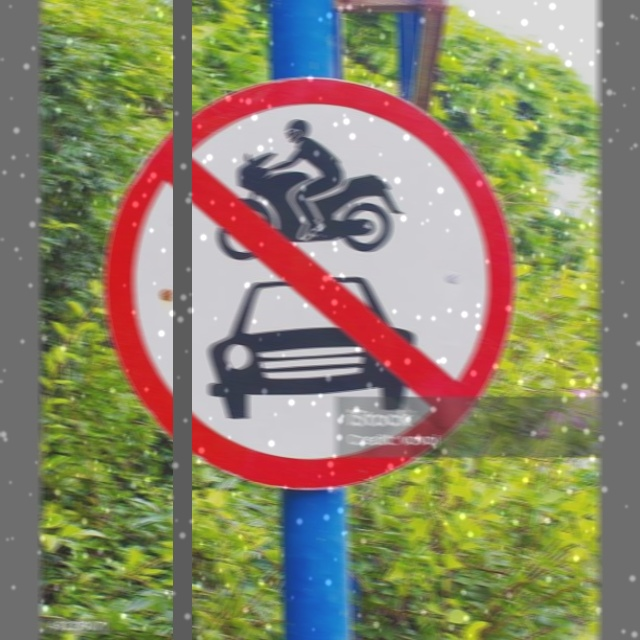All_Motor_Vehicles_Prohibited: (110, 85, 513, 486)
